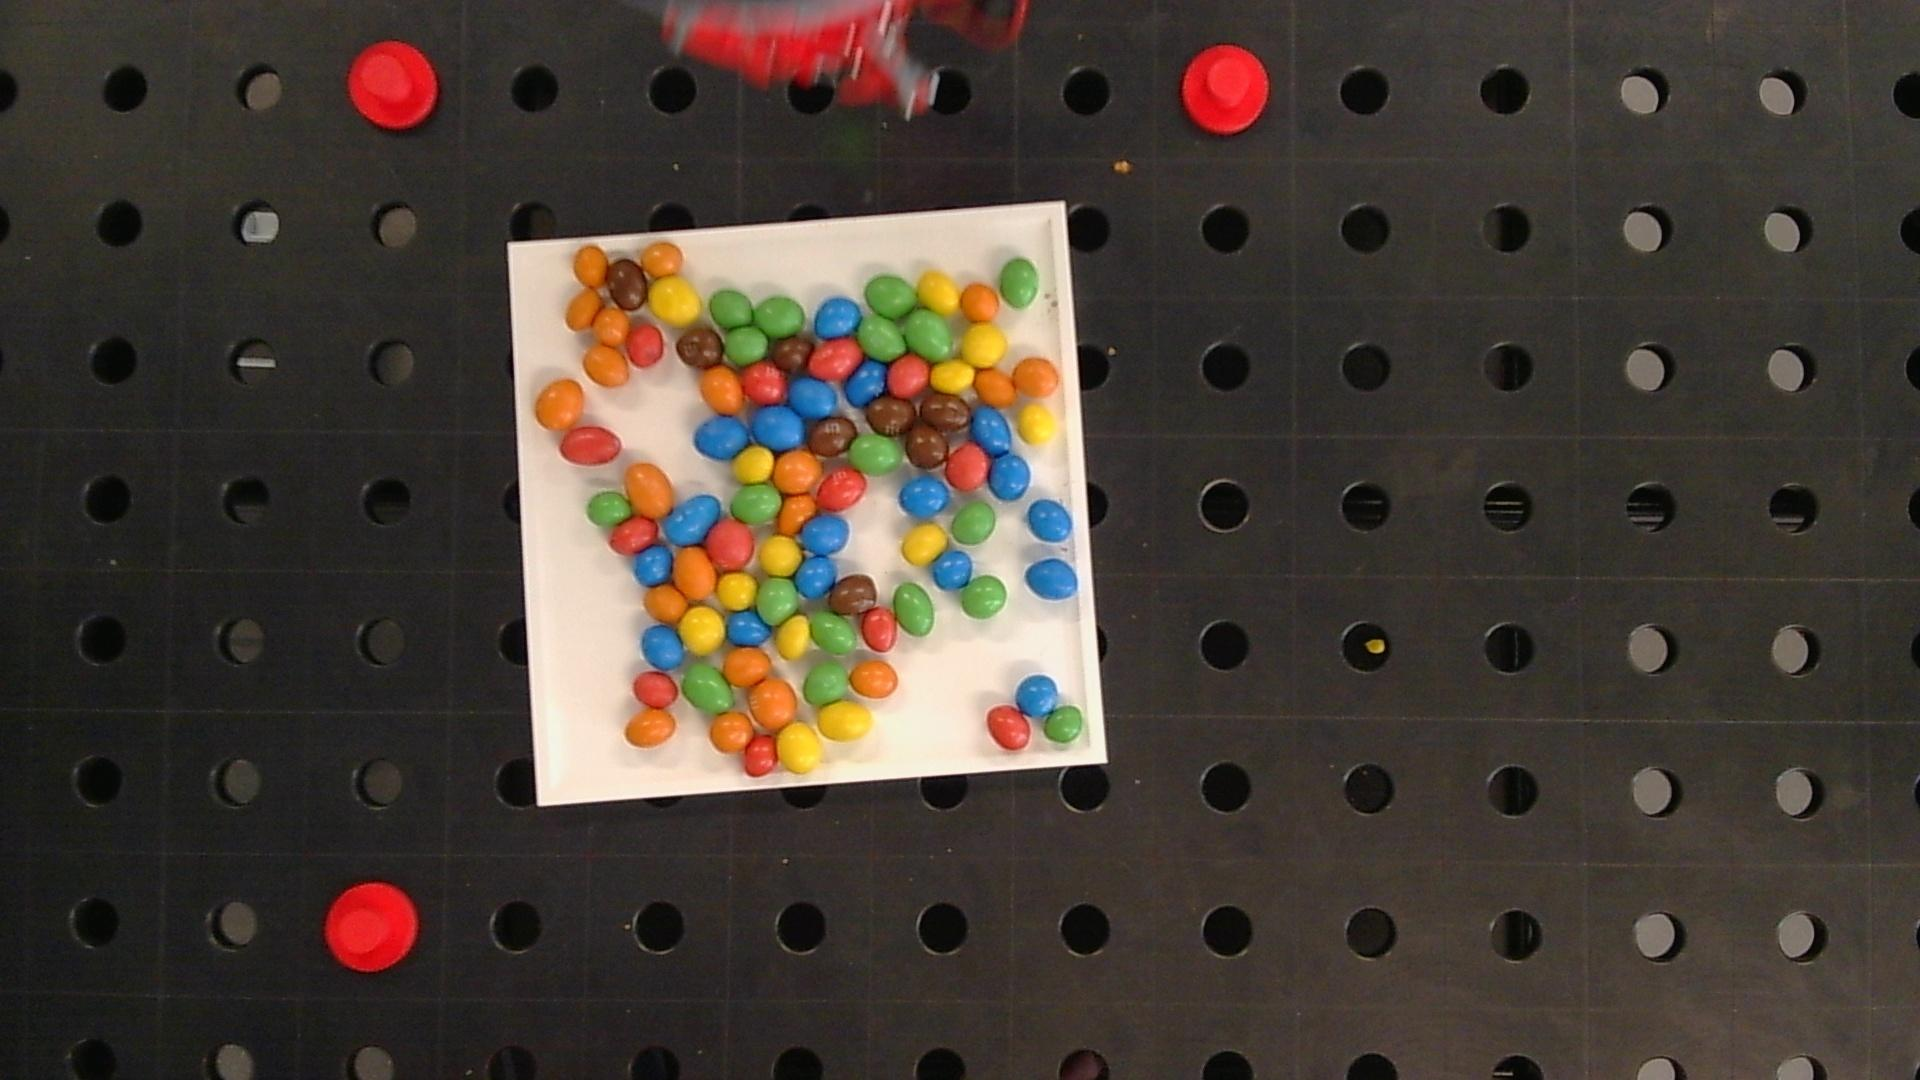blue: (665, 495, 720, 545), (694, 417, 749, 459), (753, 406, 804, 448), (1026, 559, 1077, 600), (1027, 500, 1072, 543), (901, 475, 948, 516), (989, 452, 1030, 498), (790, 377, 836, 418), (803, 514, 849, 554), (814, 298, 861, 336), (642, 625, 683, 669), (972, 407, 1010, 454), (845, 361, 886, 404), (796, 555, 836, 597), (1017, 675, 1059, 715), (727, 609, 771, 645), (932, 553, 972, 589), (634, 547, 671, 585)
brown: (920, 392, 972, 433), (608, 258, 647, 310), (808, 417, 856, 456), (866, 397, 915, 435), (906, 423, 947, 468), (831, 575, 877, 615), (678, 330, 723, 367), (770, 336, 812, 372)
green: (905, 310, 955, 359), (683, 665, 732, 711), (865, 276, 918, 318), (849, 433, 902, 475), (894, 583, 935, 636), (857, 315, 906, 359), (960, 576, 1007, 618), (757, 576, 799, 624), (754, 297, 804, 336), (811, 612, 856, 655), (803, 662, 849, 704), (1000, 258, 1039, 307), (732, 485, 782, 524), (952, 502, 997, 545), (724, 326, 767, 365), (1043, 705, 1085, 745), (709, 289, 753, 327), (587, 491, 632, 526)
orange: (625, 462, 673, 517), (535, 378, 583, 429), (749, 679, 796, 729), (674, 547, 716, 597), (700, 368, 742, 413), (583, 345, 629, 386), (774, 450, 820, 491), (1013, 357, 1060, 397), (624, 711, 676, 746), (849, 661, 899, 698), (709, 711, 752, 754), (724, 649, 769, 686), (566, 287, 604, 330), (960, 284, 1000, 322), (975, 369, 1015, 406), (645, 585, 687, 621), (574, 244, 608, 286), (779, 495, 816, 531), (642, 243, 682, 277), (593, 307, 629, 344)
red: (707, 520, 754, 568), (559, 427, 621, 464), (808, 339, 861, 378), (816, 468, 866, 509), (986, 705, 1031, 749), (947, 444, 989, 489), (741, 363, 787, 404), (609, 516, 658, 554), (887, 356, 928, 396), (861, 607, 897, 651), (633, 673, 678, 707), (626, 326, 665, 365), (744, 737, 778, 775)
yellow: (649, 277, 700, 323), (816, 702, 873, 741), (777, 724, 820, 773), (680, 608, 724, 654), (901, 524, 947, 564), (961, 324, 1006, 365), (918, 272, 960, 314), (761, 535, 802, 575), (1018, 405, 1056, 443), (777, 616, 811, 658), (719, 574, 757, 609), (735, 447, 774, 481), (931, 361, 973, 392)
